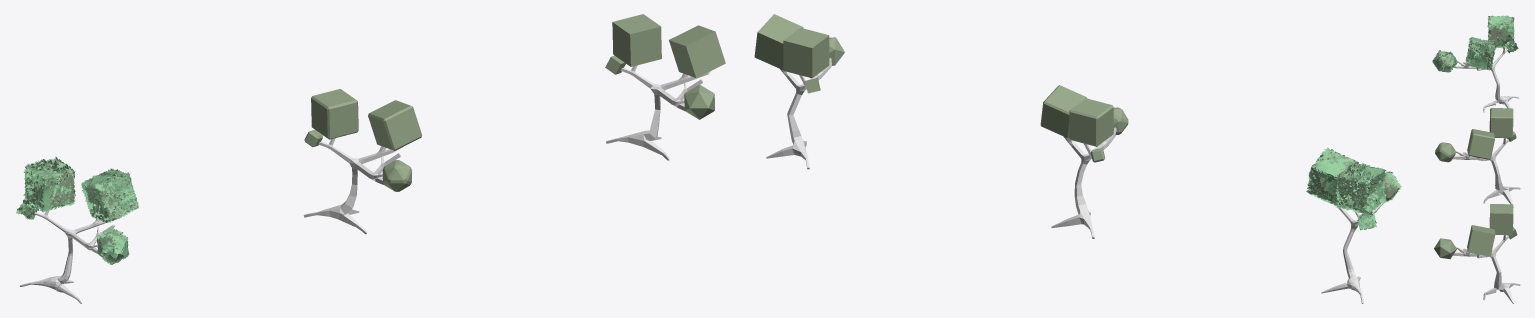
File: trM4.fbx
The picture shows the model from 3 angles, left to right: view 1: azimuth 30°, elevation 25°; view 2: azimuth 150°, elevation 25°; view 3: azimuth 270°, elevation 25°; orthographic projection. The views are drawn at different scales.
Parts seen in each view (by area): view 1: Vert.011, Vert.003, Vert.004; view 2: Vert.003, Vert.011, Vert.004; view 3: Vert.003, Vert.011, Vert.004.
Part boxes in pixels (x1,y1,x2,y2): Vert.011: (605,14,725,160); Vert.003: (16,156,138,303); Vert.004: (303,89,422,234); Vert.003: (1306,147,1401,303); Vert.011: (754,14,844,169); Vert.004: (1040,85,1128,238); Vert.003: (1432,15,1519,112); Vert.011: (1434,204,1520,303); Vert.004: (1435,108,1520,207).
Size of the model in its own units: 4374 by 828 by 764.
